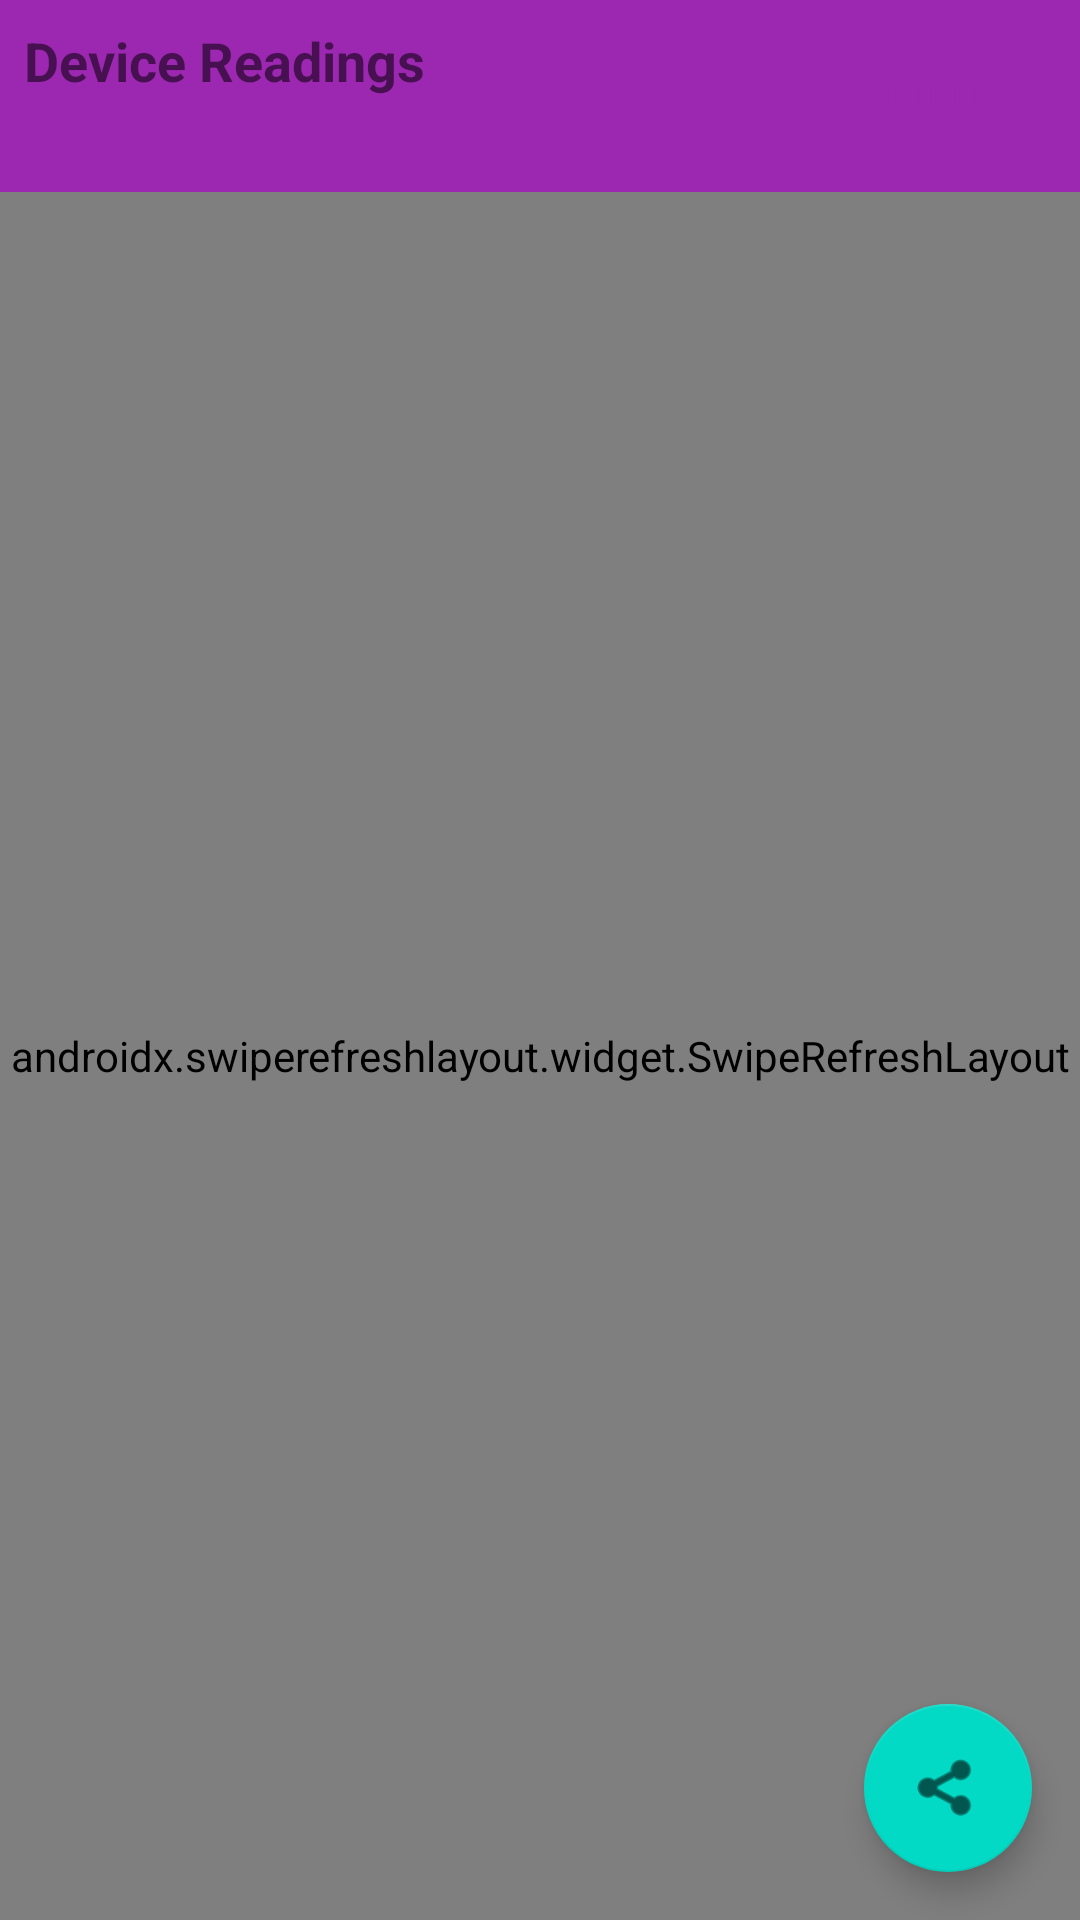

Icons on this 1080 x 1920 Android screen, each with the point to tap as (x=x, y=y):
Export readings: (x=948, y=1788)
